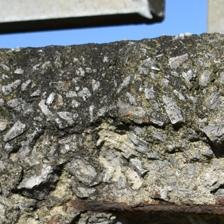Crack: (23, 60, 197, 100)
